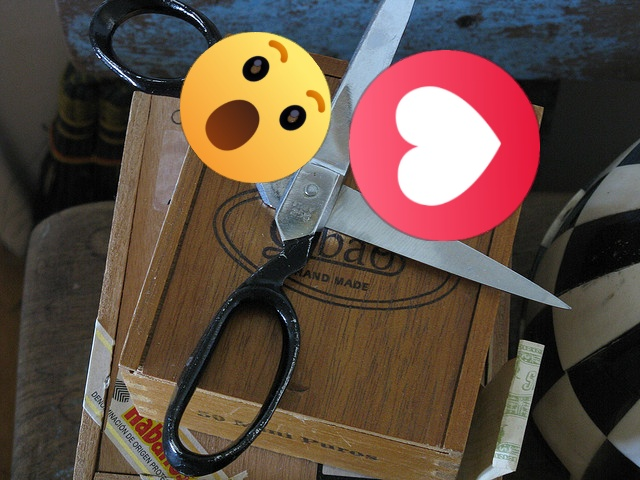love: (349, 50, 540, 241)
wow: (180, 32, 331, 183)
